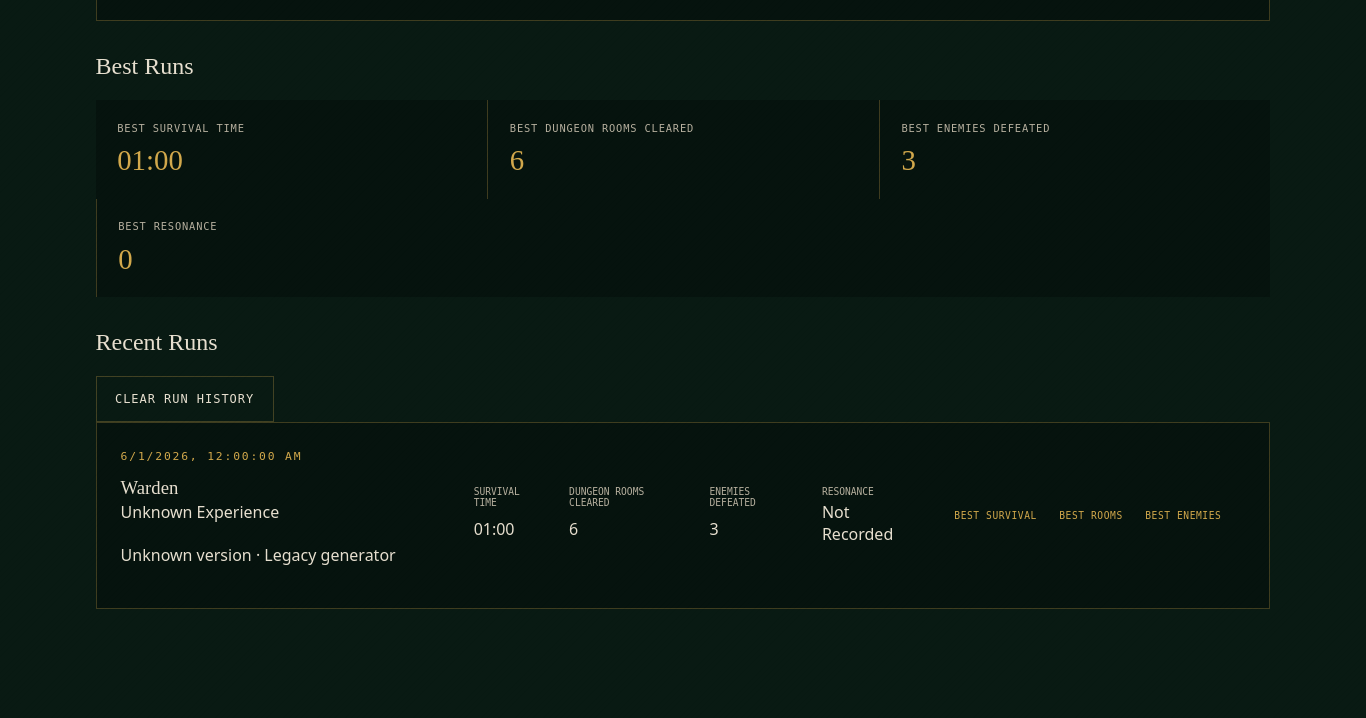
it: Resonant Ruins Runs page › confirms destructive History clearing while preserving bests and unrelated local data
(page scrolled)
Click the button "Clear Run History".
click(185, 399)  # box x1=96 y1=376 x2=274 y2=422
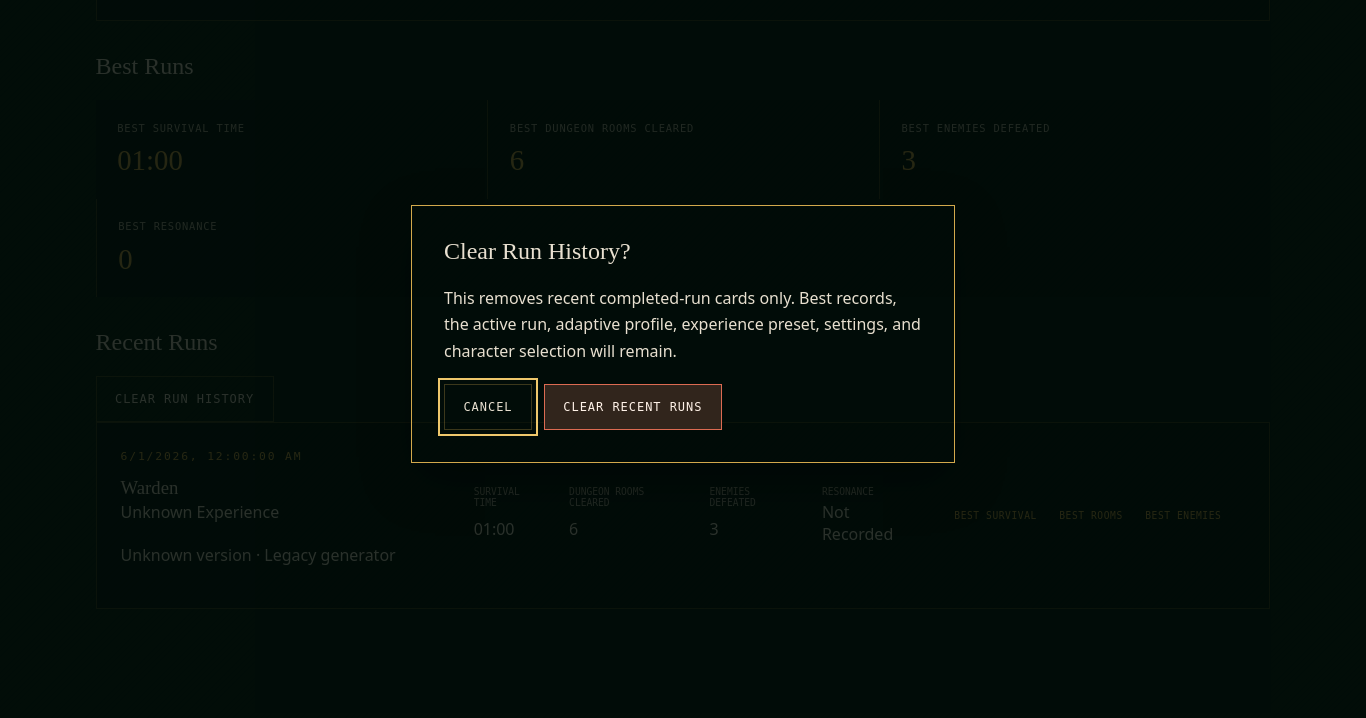
Expected: the dialog "Clear Run History?" shows "Best records", x1=444 y1=287 x2=921 y2=362
Press Escape in the dialog "Clear Run History?", box x1=411 y1=205 x2=955 y2=463
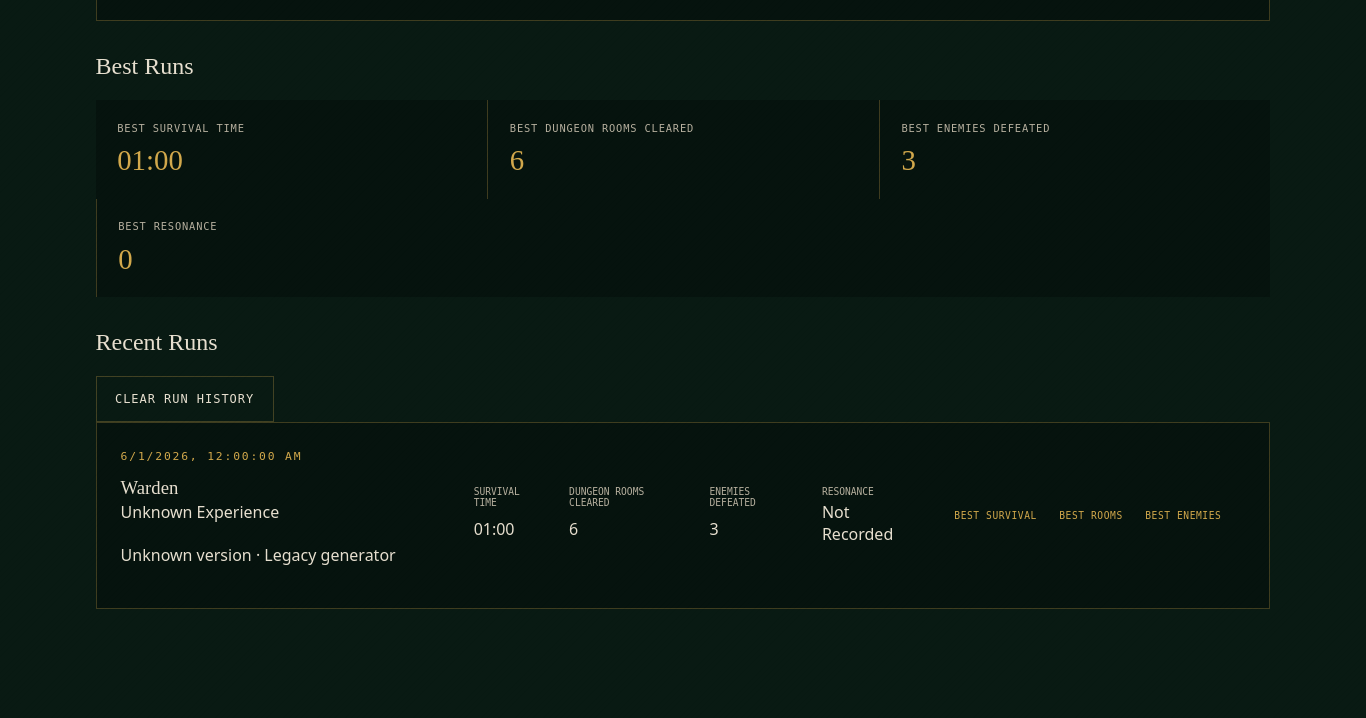
Expected: the heading "Warden" is shown, x1=121 y1=477 x2=178 y2=498
Click the button "Clear Run History".
click(185, 399)  # box x1=96 y1=376 x2=274 y2=422
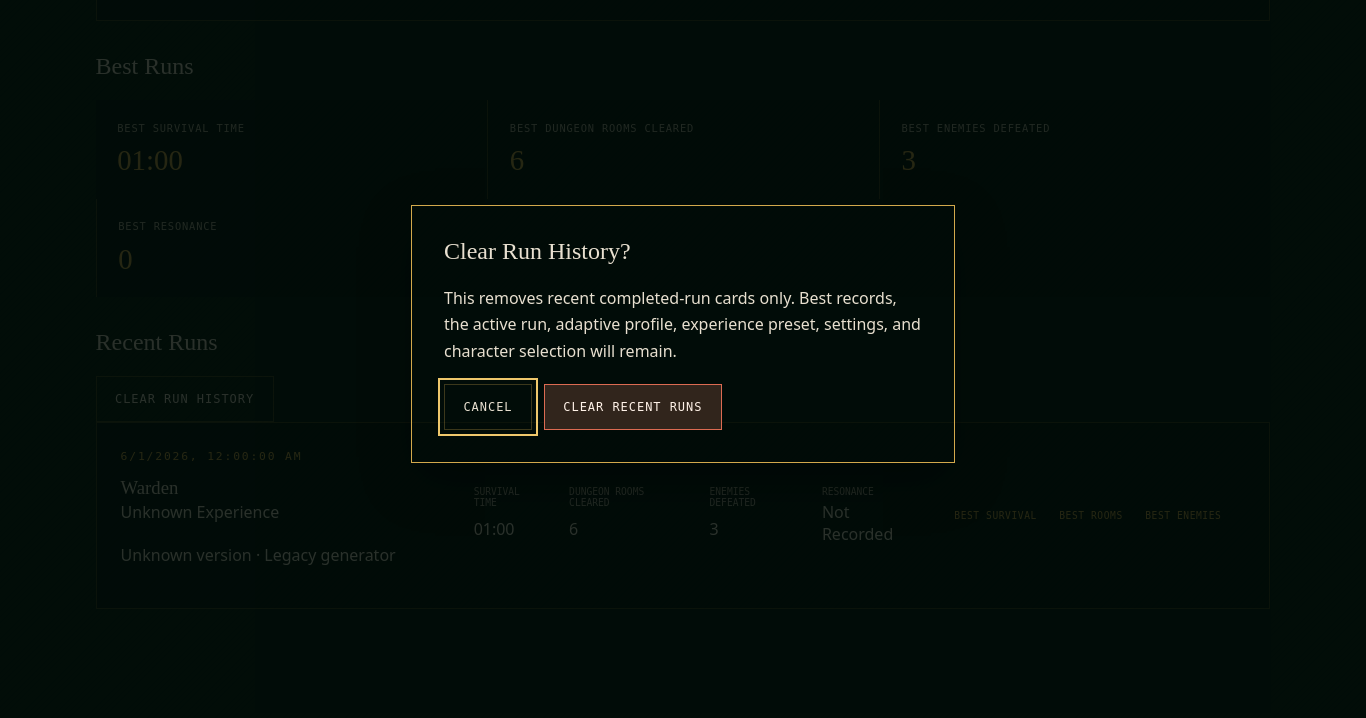
Click the button "Clear recent runs".
click(633, 407)  # box x1=544 y1=384 x2=722 y2=430
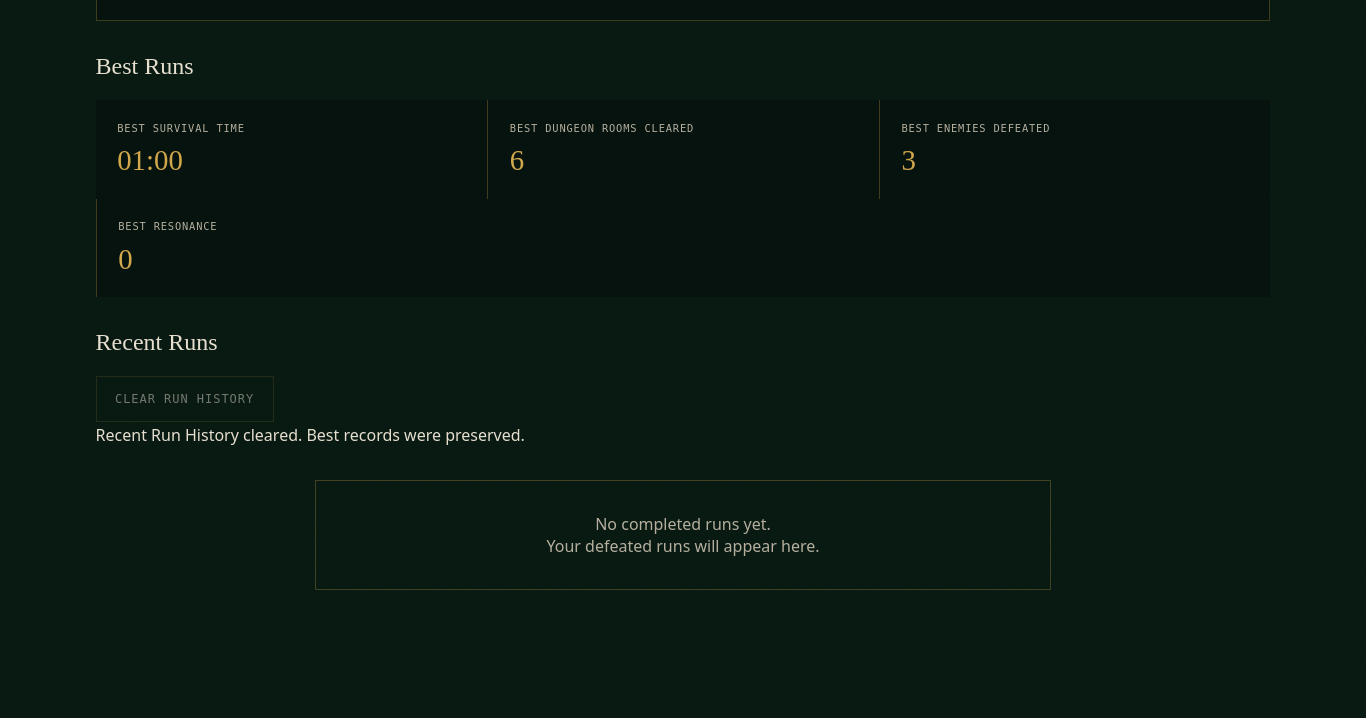
Expected: the text "01:00" is shown, x1=117 y1=144 x2=183 y2=176
Expected: the text "Recent Run History cleared. Best records were preserved." is shown, x1=96 y1=424 x2=525 y2=446
Expected: the text "No completed runs yet.Your defeated runs will appear here." is shown, x1=315 y1=480 x2=1051 y2=590
